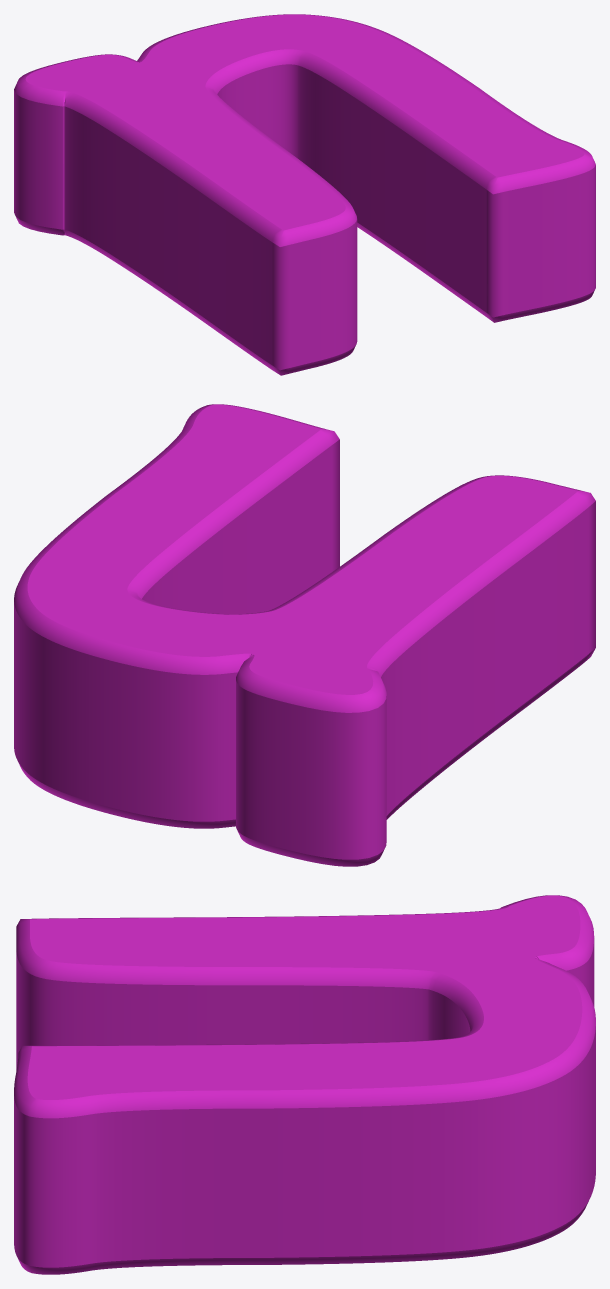
Rendered from Bubble_Letter_u.fbx.
3 renders of one model, top to bottom at view 1: azimuth 30°, elevation 25°; view 2: azimuth 150°, elevation 25°; view 3: azimuth 270°, elevation 25°, orthographic. The views are drawn at different scales.
Parts seen in each view (by area): view 1: BubbleLetter_u; view 2: BubbleLetter_u; view 3: BubbleLetter_u.
Part boxes in pixels (x1,y1,x2,y2): BubbleLetter_u: (14, 14, 595, 375); BubbleLetter_u: (14, 404, 595, 866); BubbleLetter_u: (14, 895, 595, 1274).
Size of the model in its own units: 0.3724 by 0.14 by 0.4238.
